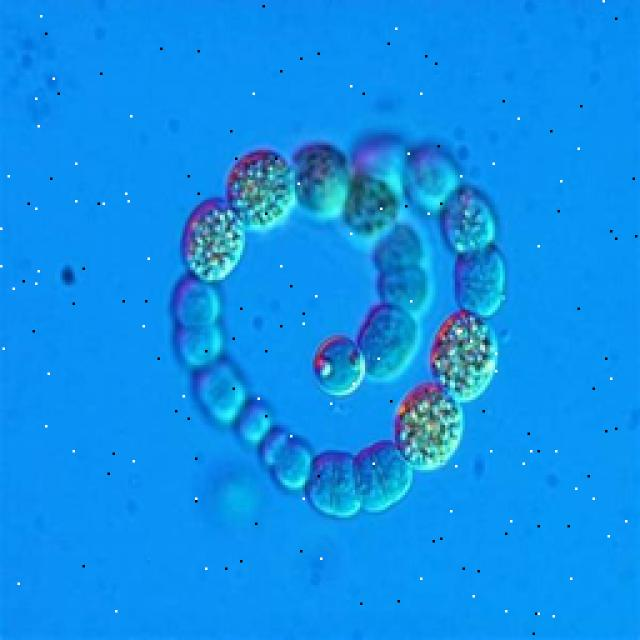Anabaena: (165, 129, 510, 517)
